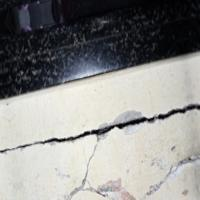crack: (0, 103, 199, 199)
